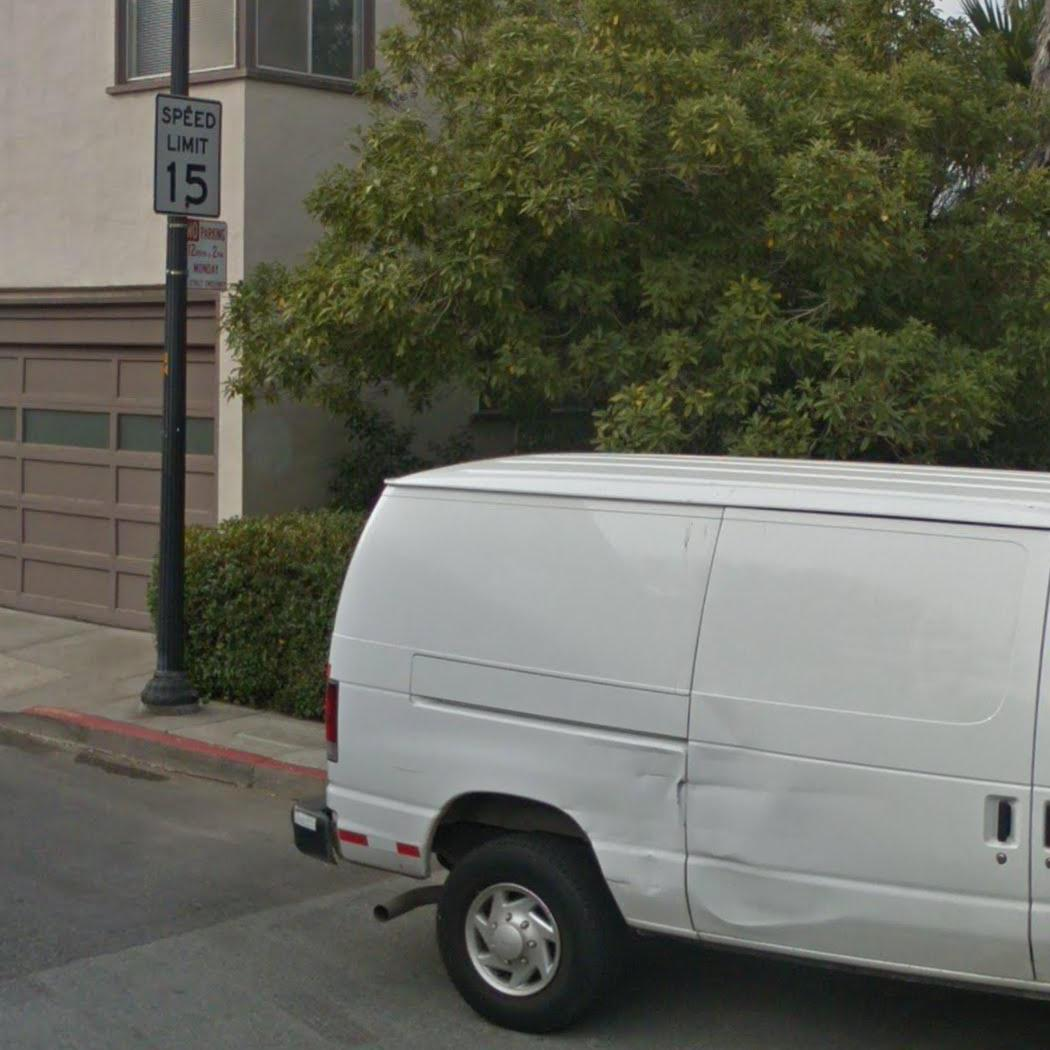No Parking: (185, 214, 233, 301)
